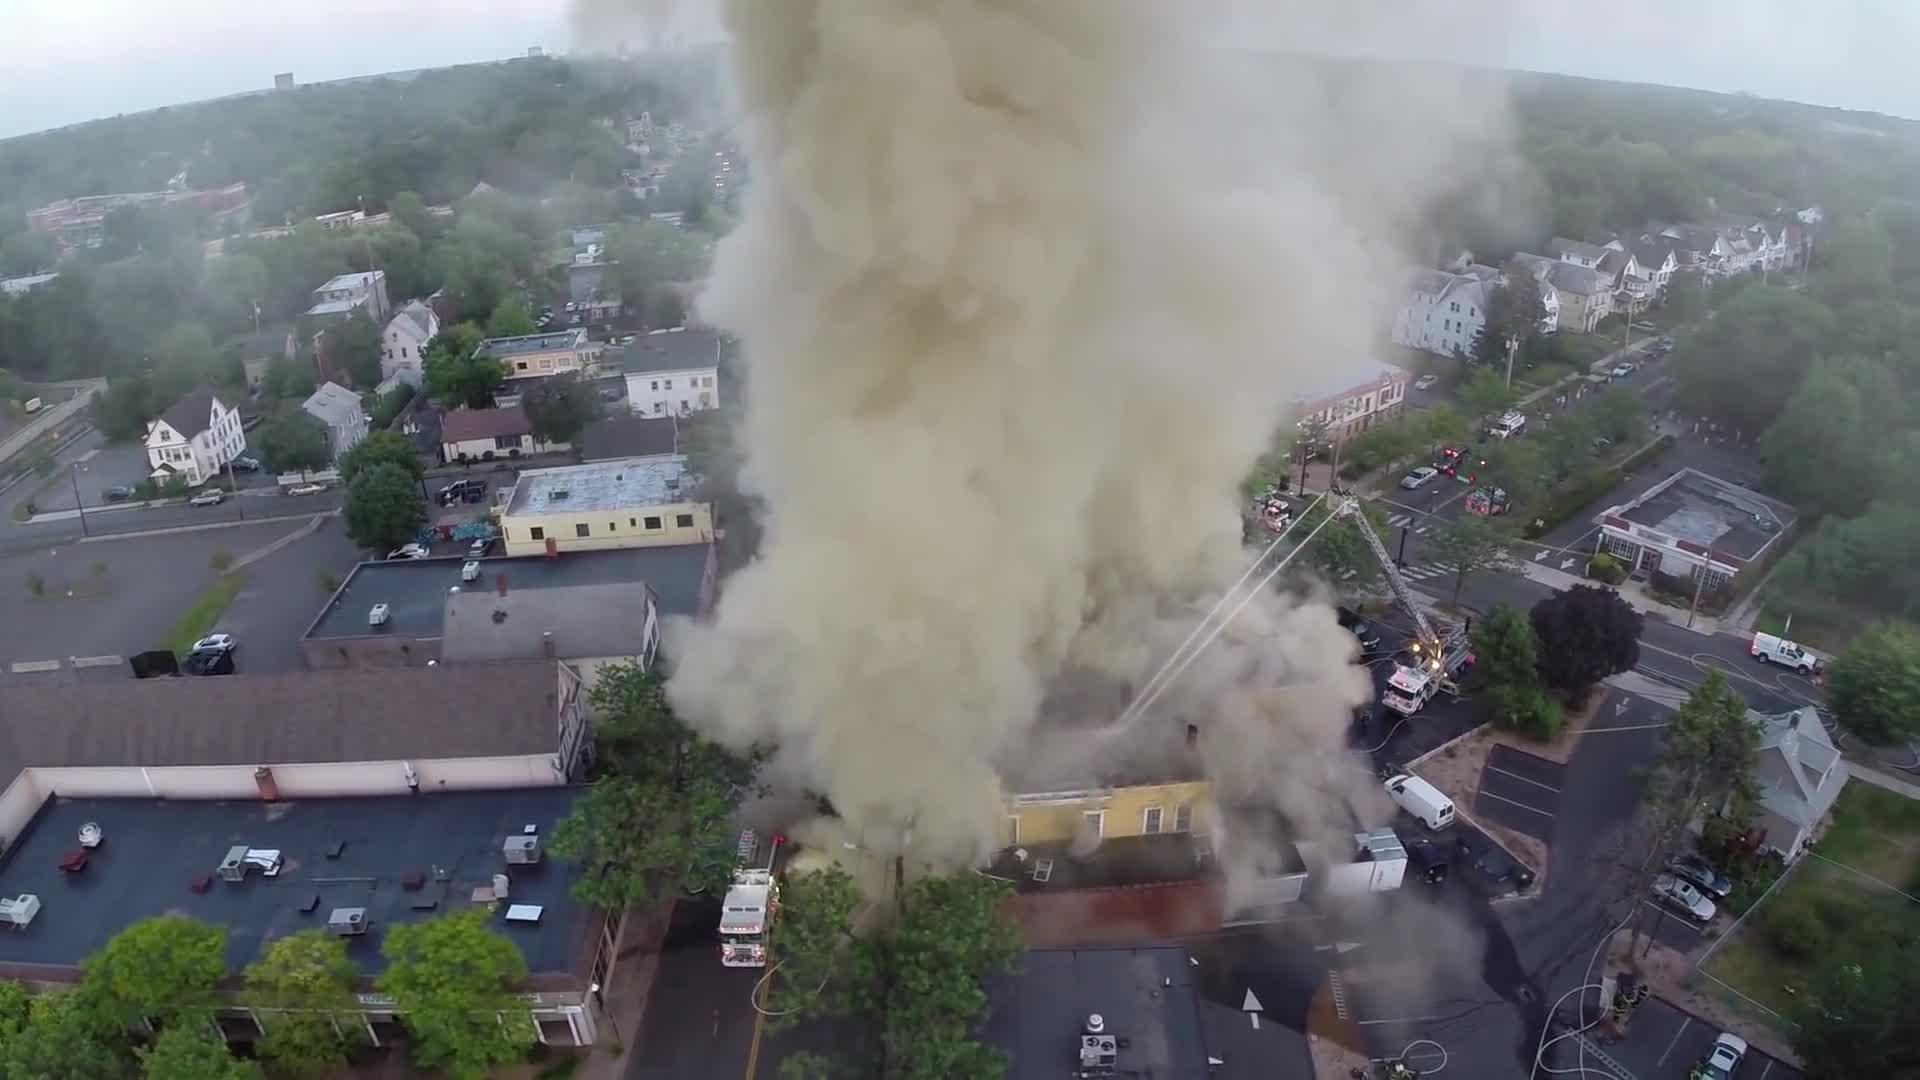smoke: (724, 40, 1014, 843), (1046, 40, 1287, 446), (1069, 485, 1266, 754)
